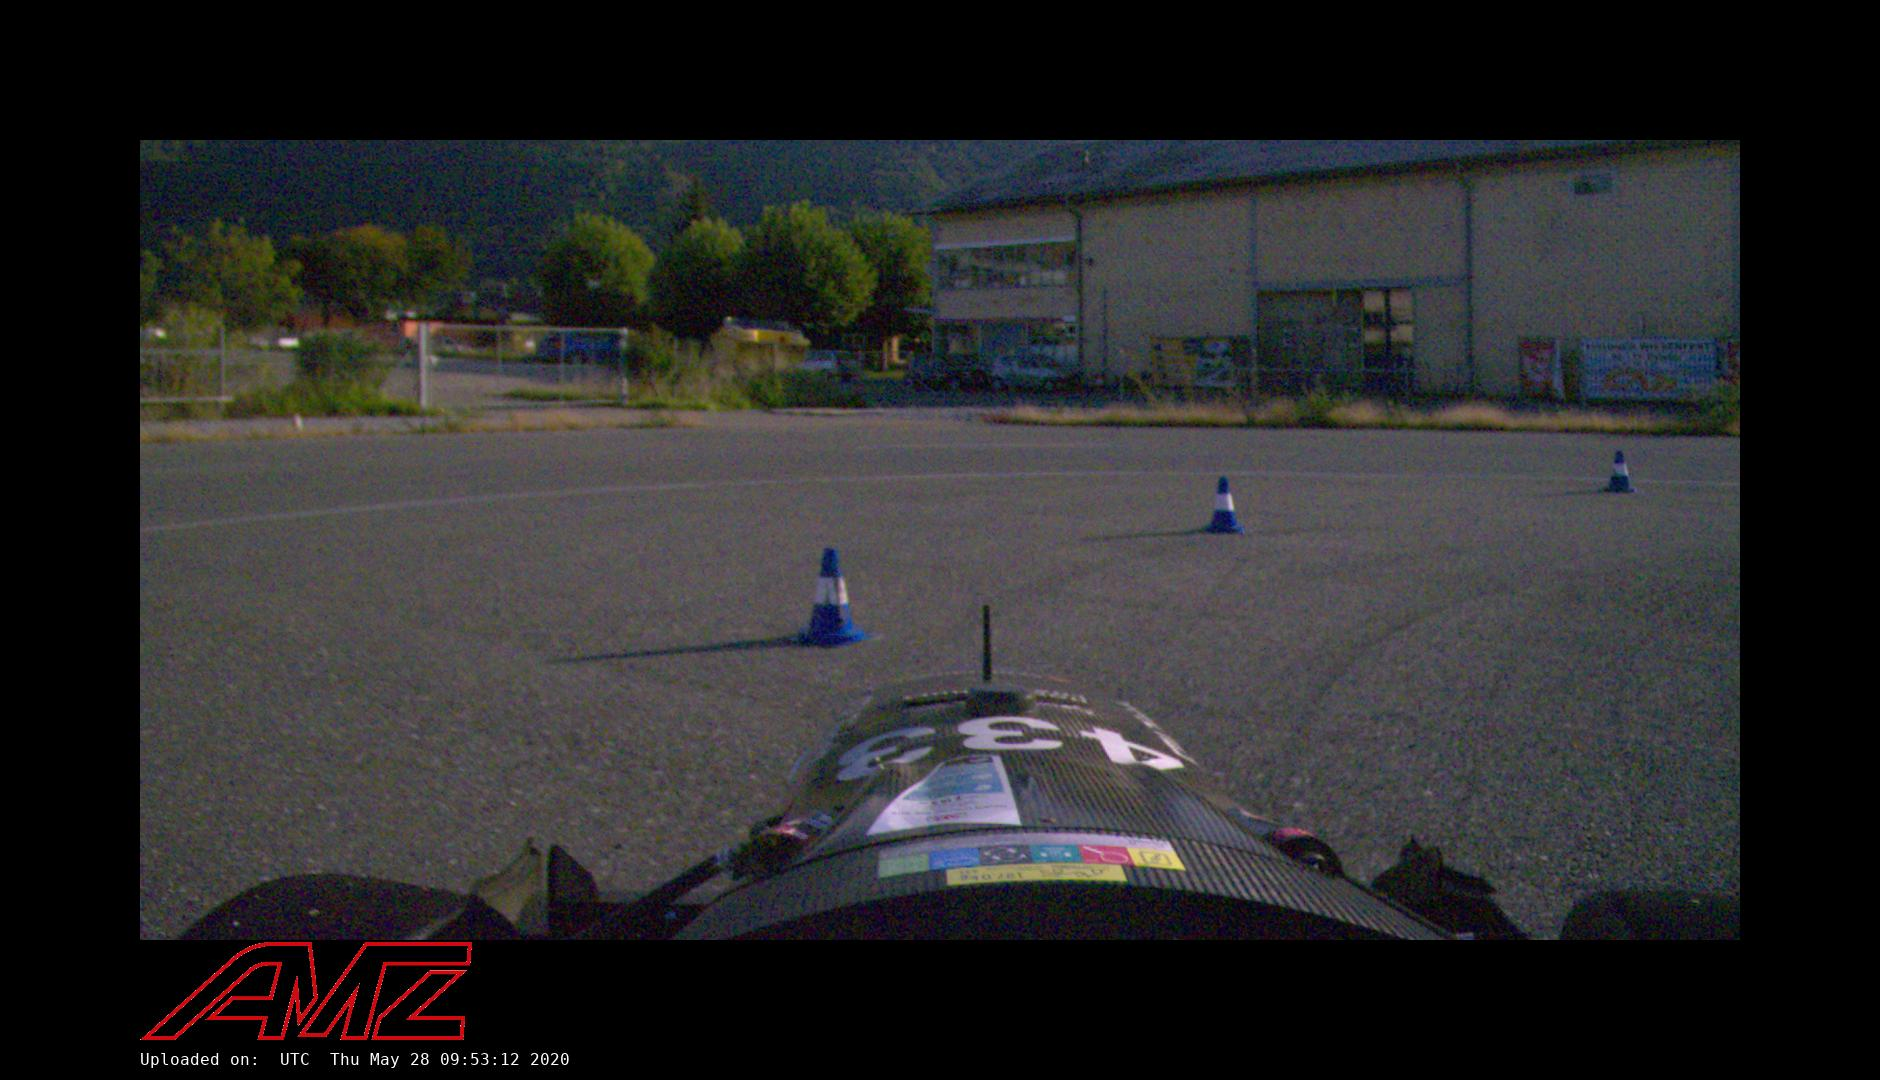blue_cone: (794, 546, 868, 645), (1202, 475, 1243, 535), (1604, 451, 1637, 493)
